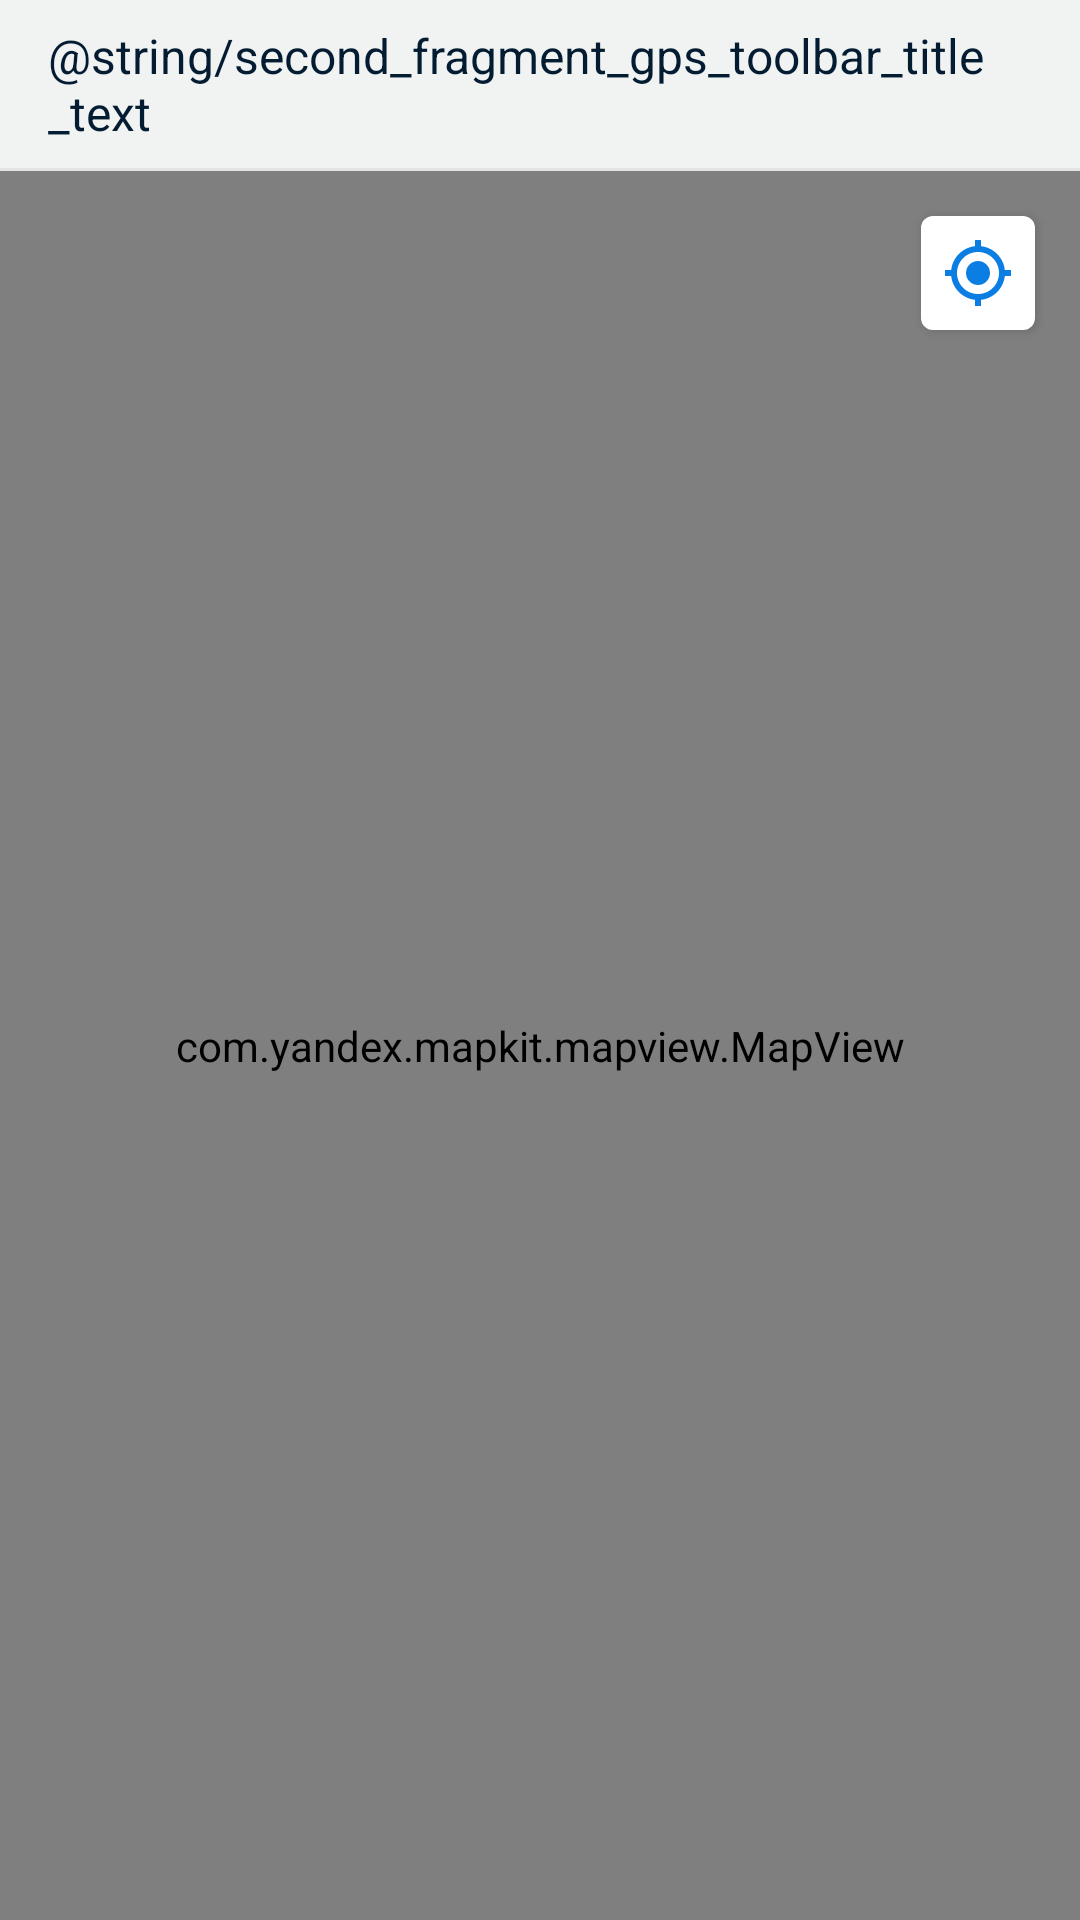

Screen size 1080×1920. Icon name, then its center in pixels as (x=x, y=y):
location: (x=978, y=273)
